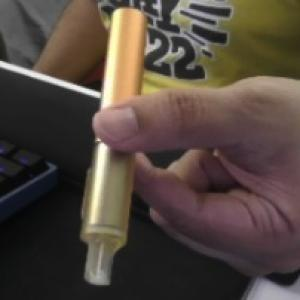Golden-E-Ciggirate: (76, 8, 146, 290)
